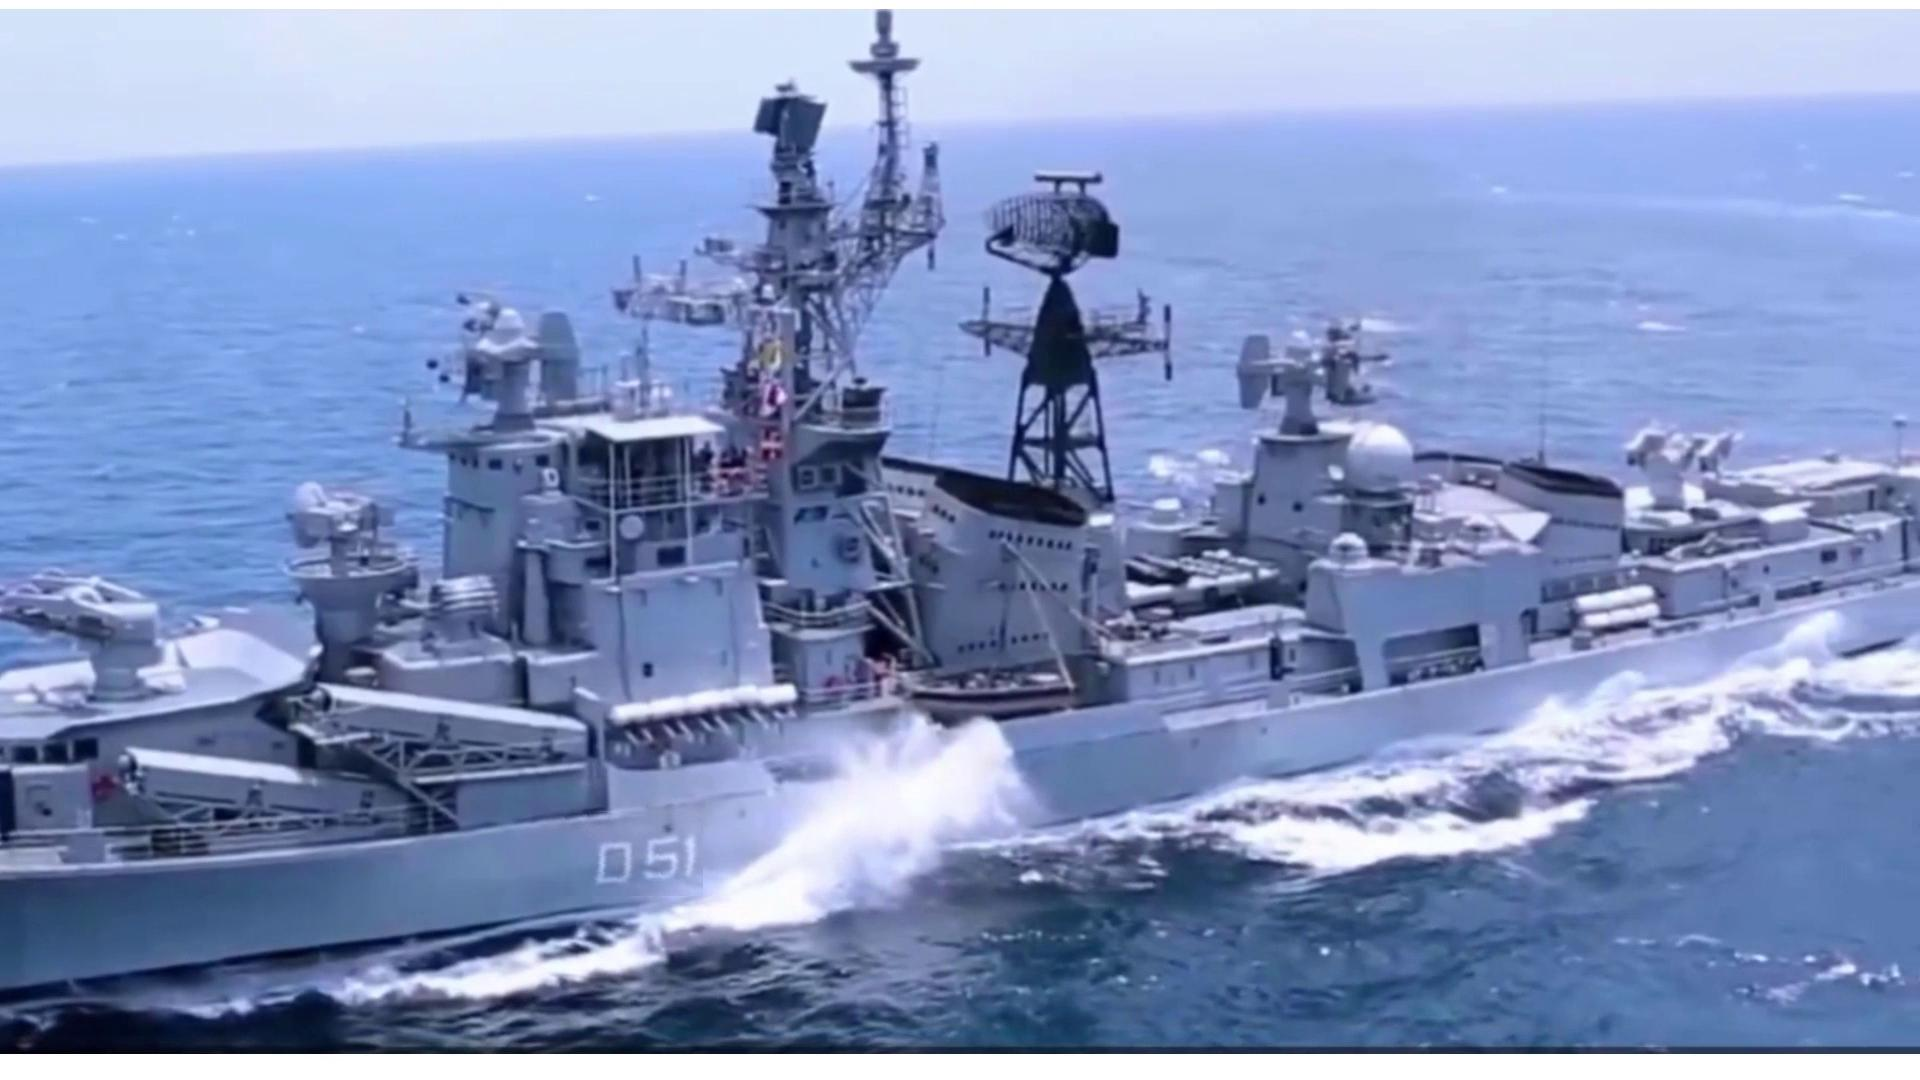OCR: (552, 810, 703, 896)
